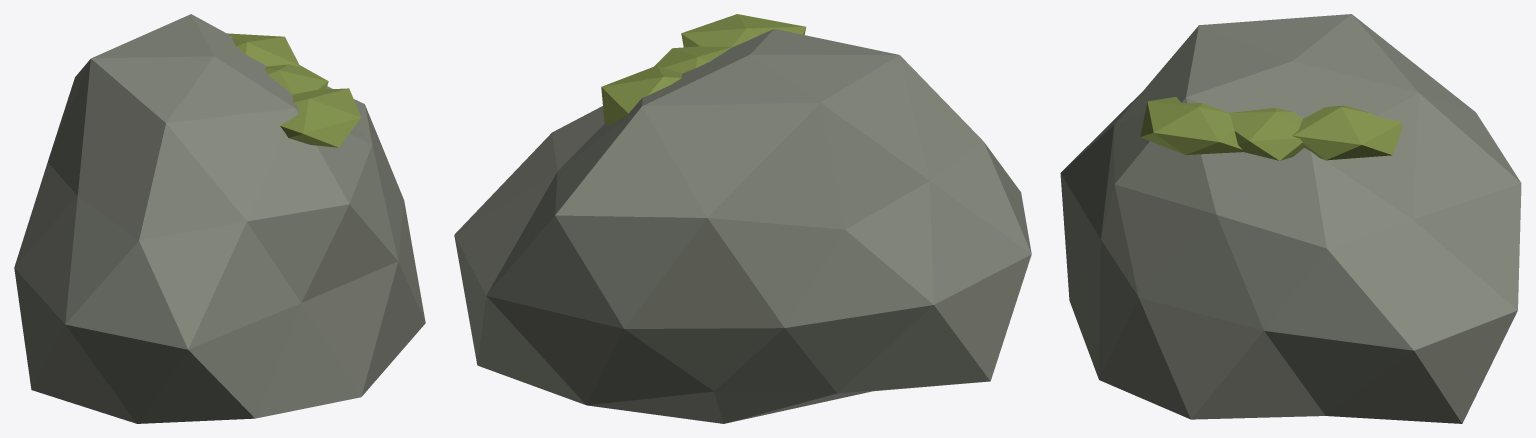
File: BP_Moss_Rock_2.fbx
The picture shows the model from 3 angles, left to right: view 1: azimuth 30°, elevation 25°; view 2: azimuth 150°, elevation 25°; view 3: azimuth 270°, elevation 25°; orthographic projection. The views are drawn at different scales.
Parts seen in each view (by area): view 1: BP_Moss_Rock_2; view 2: BP_Moss_Rock_2; view 3: BP_Moss_Rock_2.
Part boxes in pixels (bbox=[...]): BP_Moss_Rock_2: bbox=[14, 14, 425, 423]; BP_Moss_Rock_2: bbox=[454, 14, 1031, 423]; BP_Moss_Rock_2: bbox=[1060, 14, 1521, 423].
Size of the model in its own units: 194 by 130 by 179.
